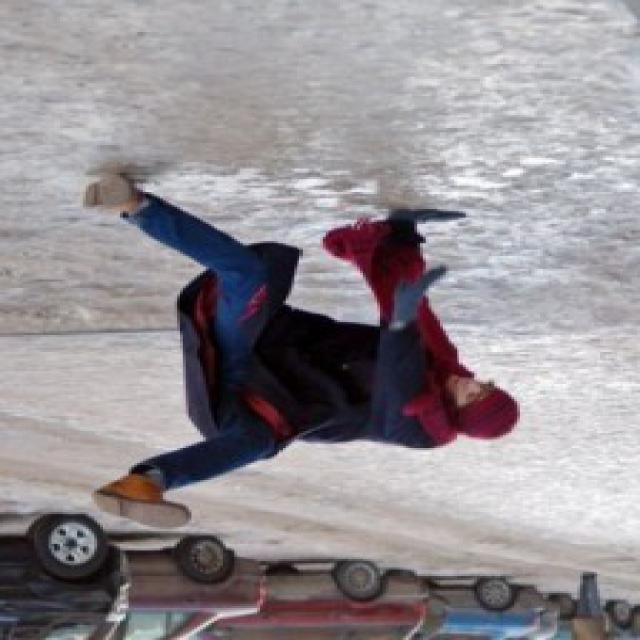fall: (64, 168, 511, 524)
